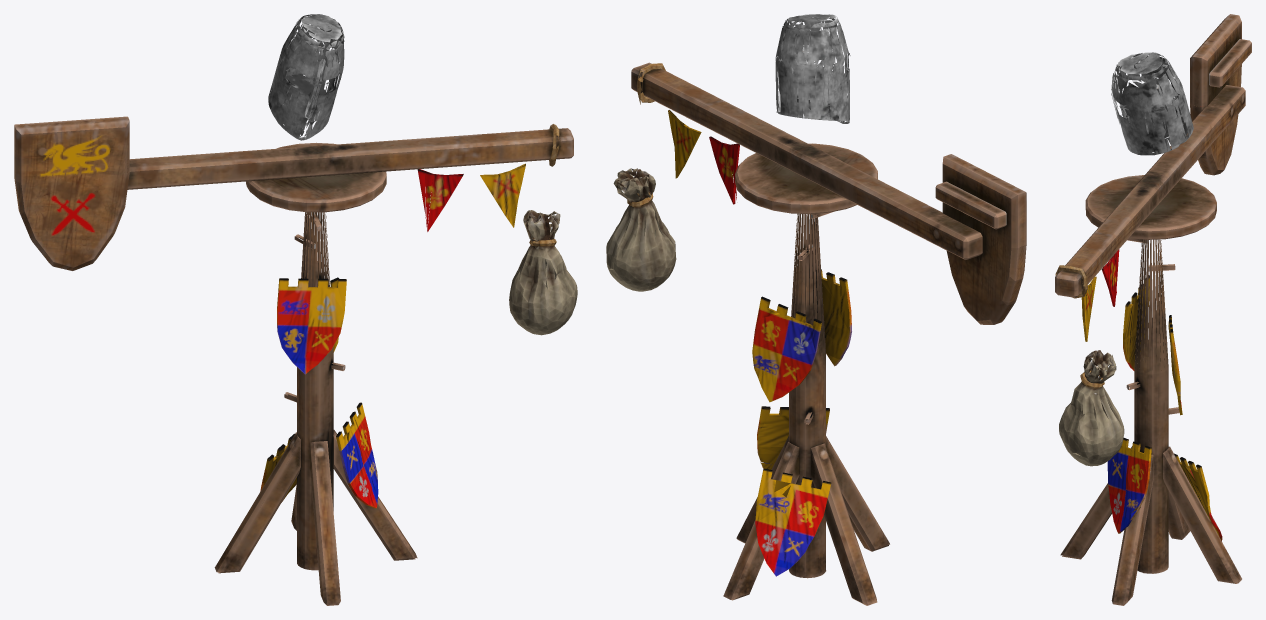
Rendered from quintain.glb.
3 views of the same model, side by side, from view 1: azimuth 30°, elevation 25°; view 2: azimuth 150°, elevation 25°; view 3: azimuth 270°, elevation 25° (orthographic). The views are drawn at different scales.
Visible parts, largest first — view 1: defaultMaterial.010; view 2: defaultMaterial.010; view 3: defaultMaterial.010.
Part boxes in pixels (<box>): defaultMaterial.010: <box>14,14,577,605</box>; defaultMaterial.010: <box>606,14,1026,605</box>; defaultMaterial.010: <box>1055,14,1251,605</box>.
Bounding box in the file's own units: 1.17 × 1.26 × 0.441.
Materials: 1 (1 with a texture image).
